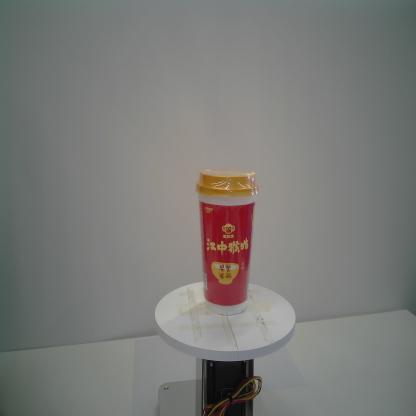Instant Drink: (195, 167, 260, 316)
